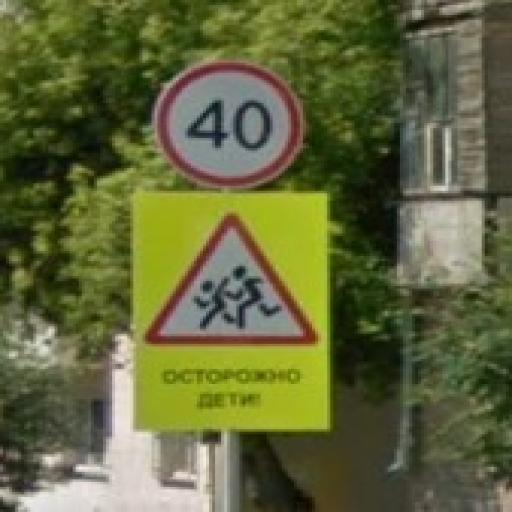traffic_sign: (144, 212, 322, 347), (156, 64, 310, 192)
